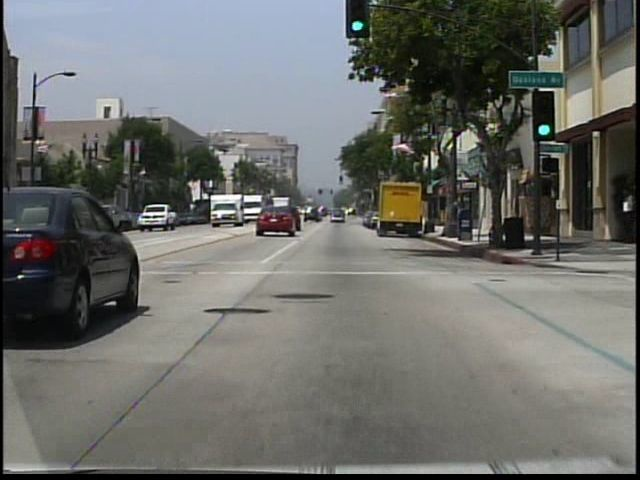person: (620, 195, 632, 243)
